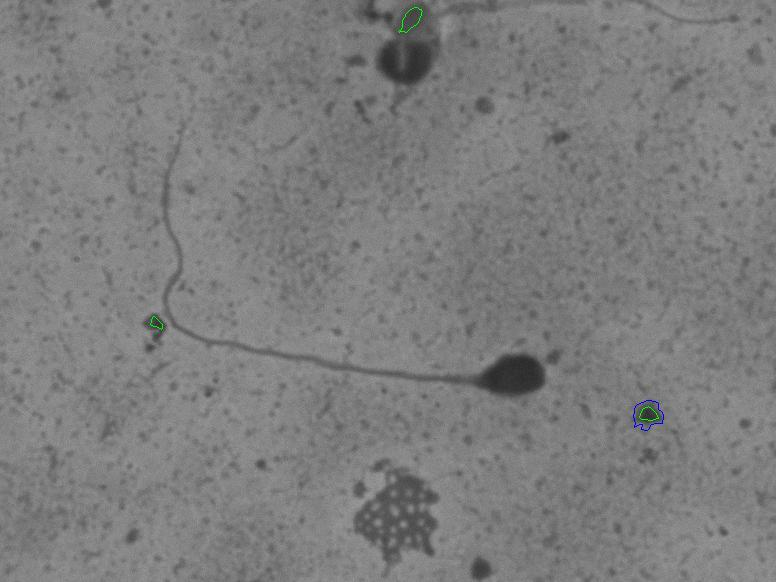Abnormal: (109, 105, 583, 422)
